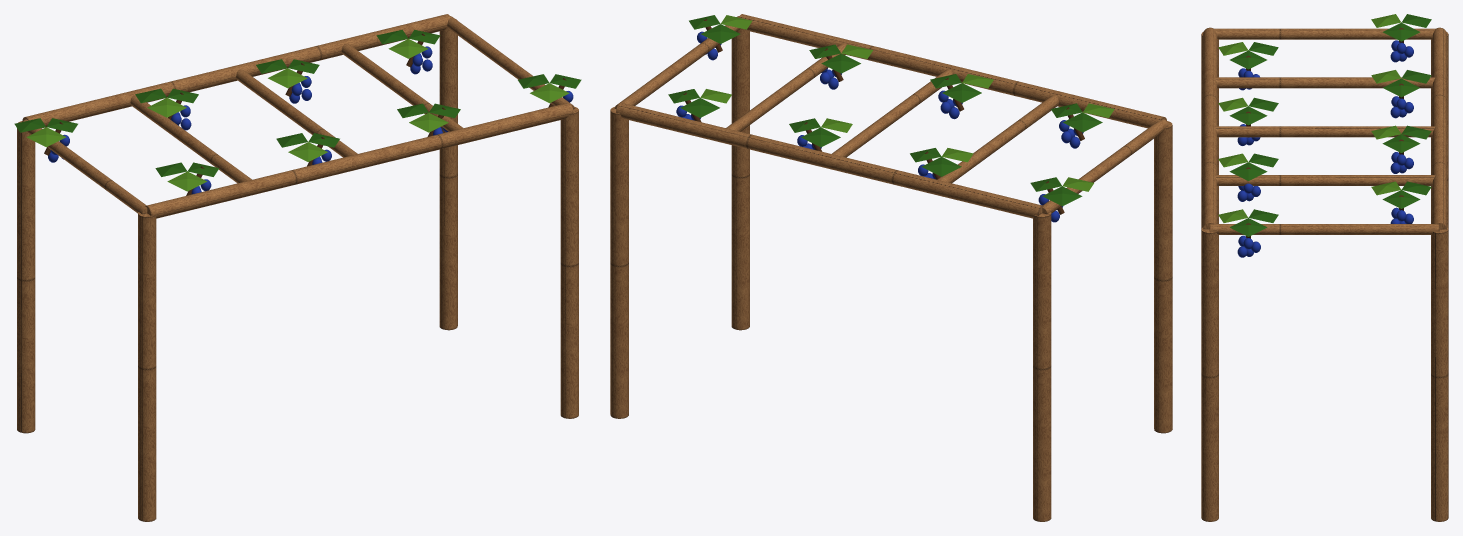
The model's file is Szolo_lugas.obj.
3 renders of one model, left to right at view 1: azimuth 30°, elevation 25°; view 2: azimuth 150°, elevation 25°; view 3: azimuth 270°, elevation 25°, orthographic. The views are drawn at different scales.
Size of the model in its own units: 3.28 by 2.09 by 1.55.
Materials: 5 (1 with a texture image).
